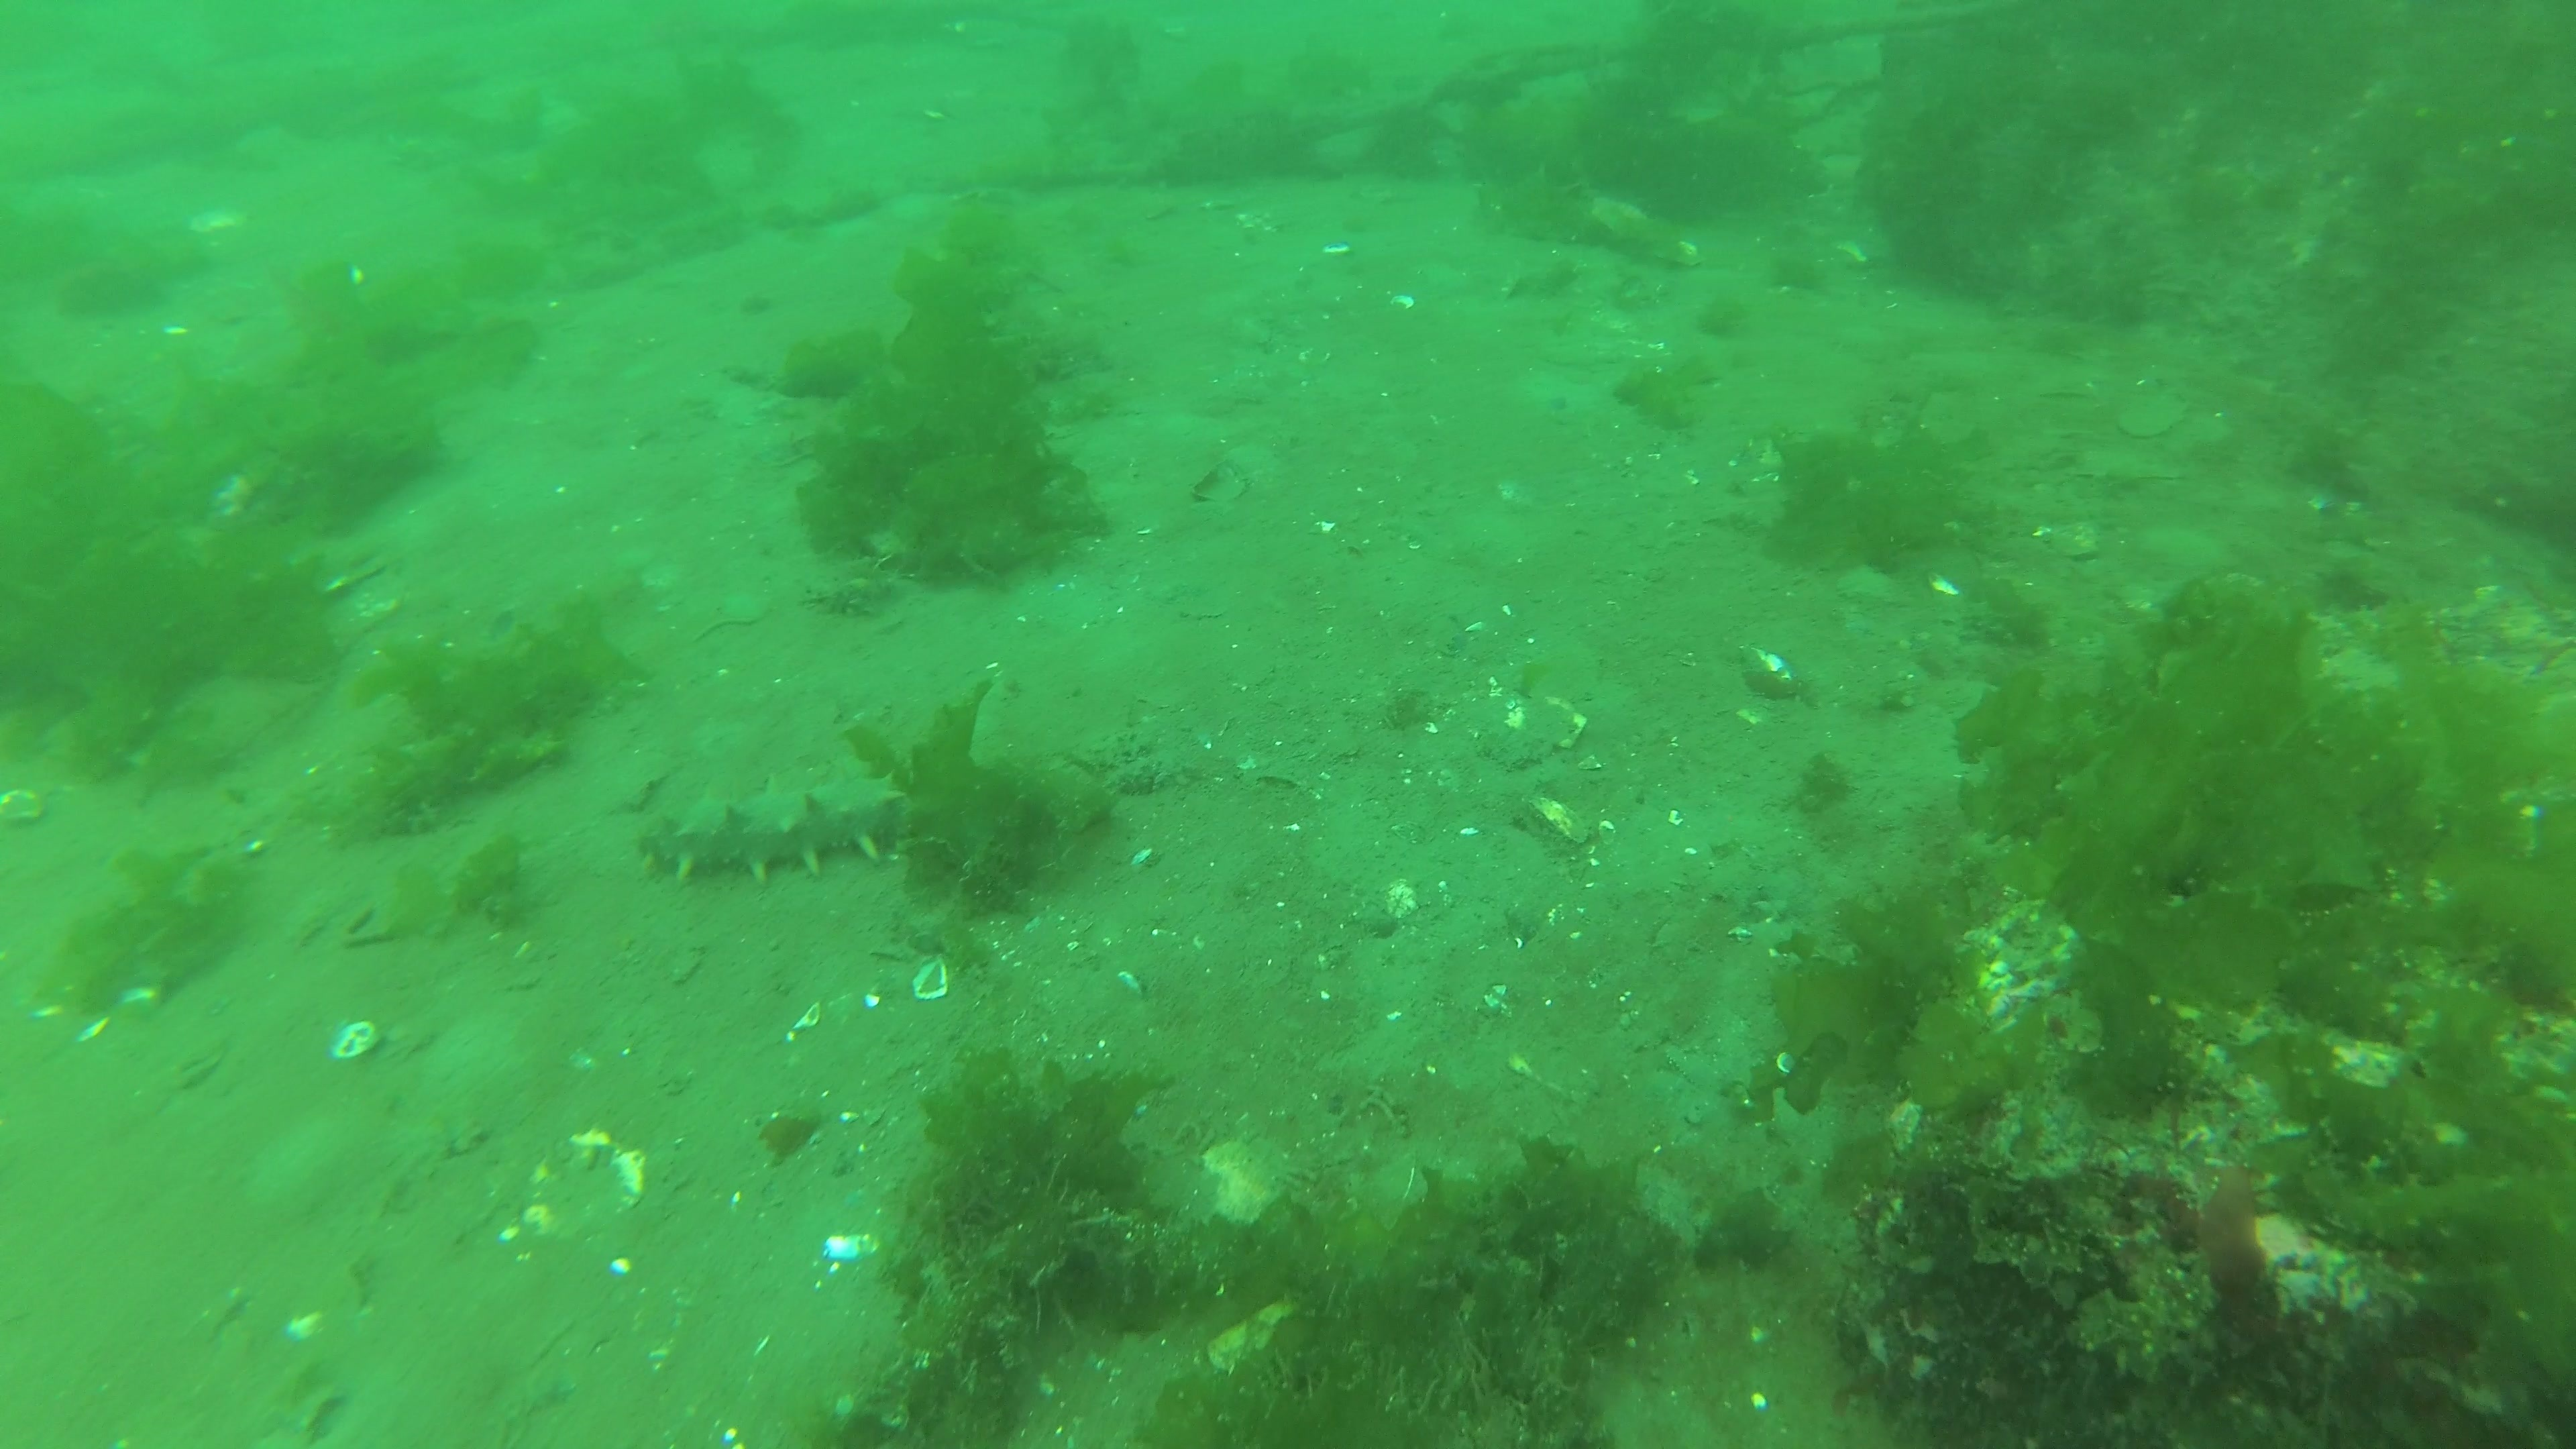holothurian: (637, 770, 911, 890)
